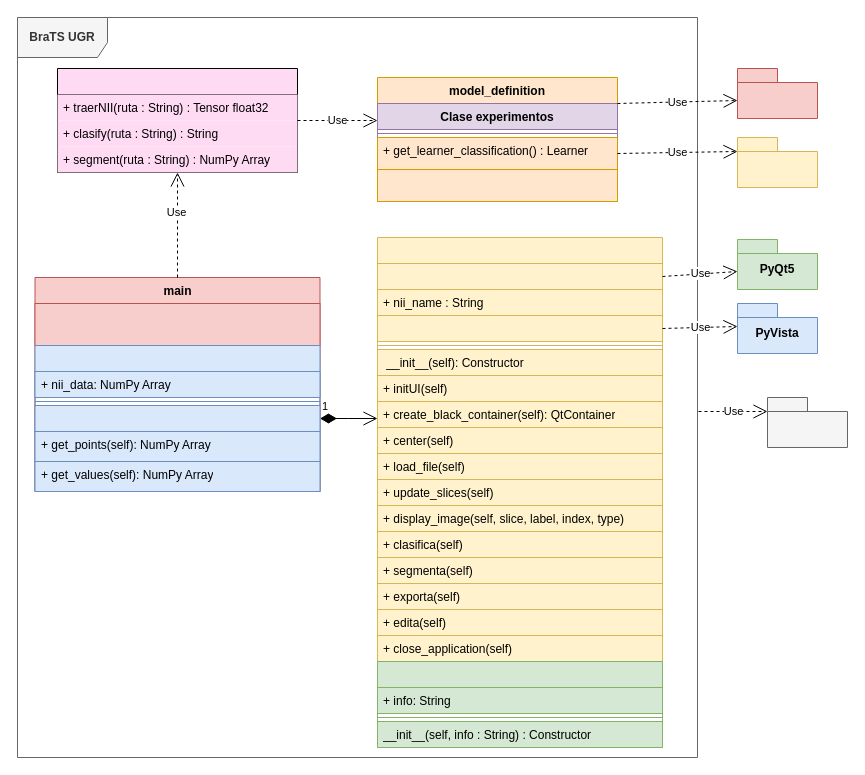
Image size: 865x775. Some labels were removed from this diagram. Here are the shapes that lost their labels. From the top down, the box of each, then its label:
(736, 68, 818, 118): PyTorch
(56, 68, 298, 172): predictions
(736, 136, 818, 188): Fastai
(376, 168, 618, 202): + get_learner_segmentation() : Learner
(376, 262, 662, 290): + nii_data : NumPy Array
(34, 302, 320, 346): + main()
(376, 314, 662, 342): + nii_seg : NumPy Array
(34, 404, 320, 432): __init__(self, nii_data) : Constructor
(34, 344, 320, 492): PointCloud
(766, 396, 848, 448): NiBabel
(376, 236, 662, 748): MainWindow(QMainWindow)
(376, 660, 662, 748): InfoWindow(QDialog)
